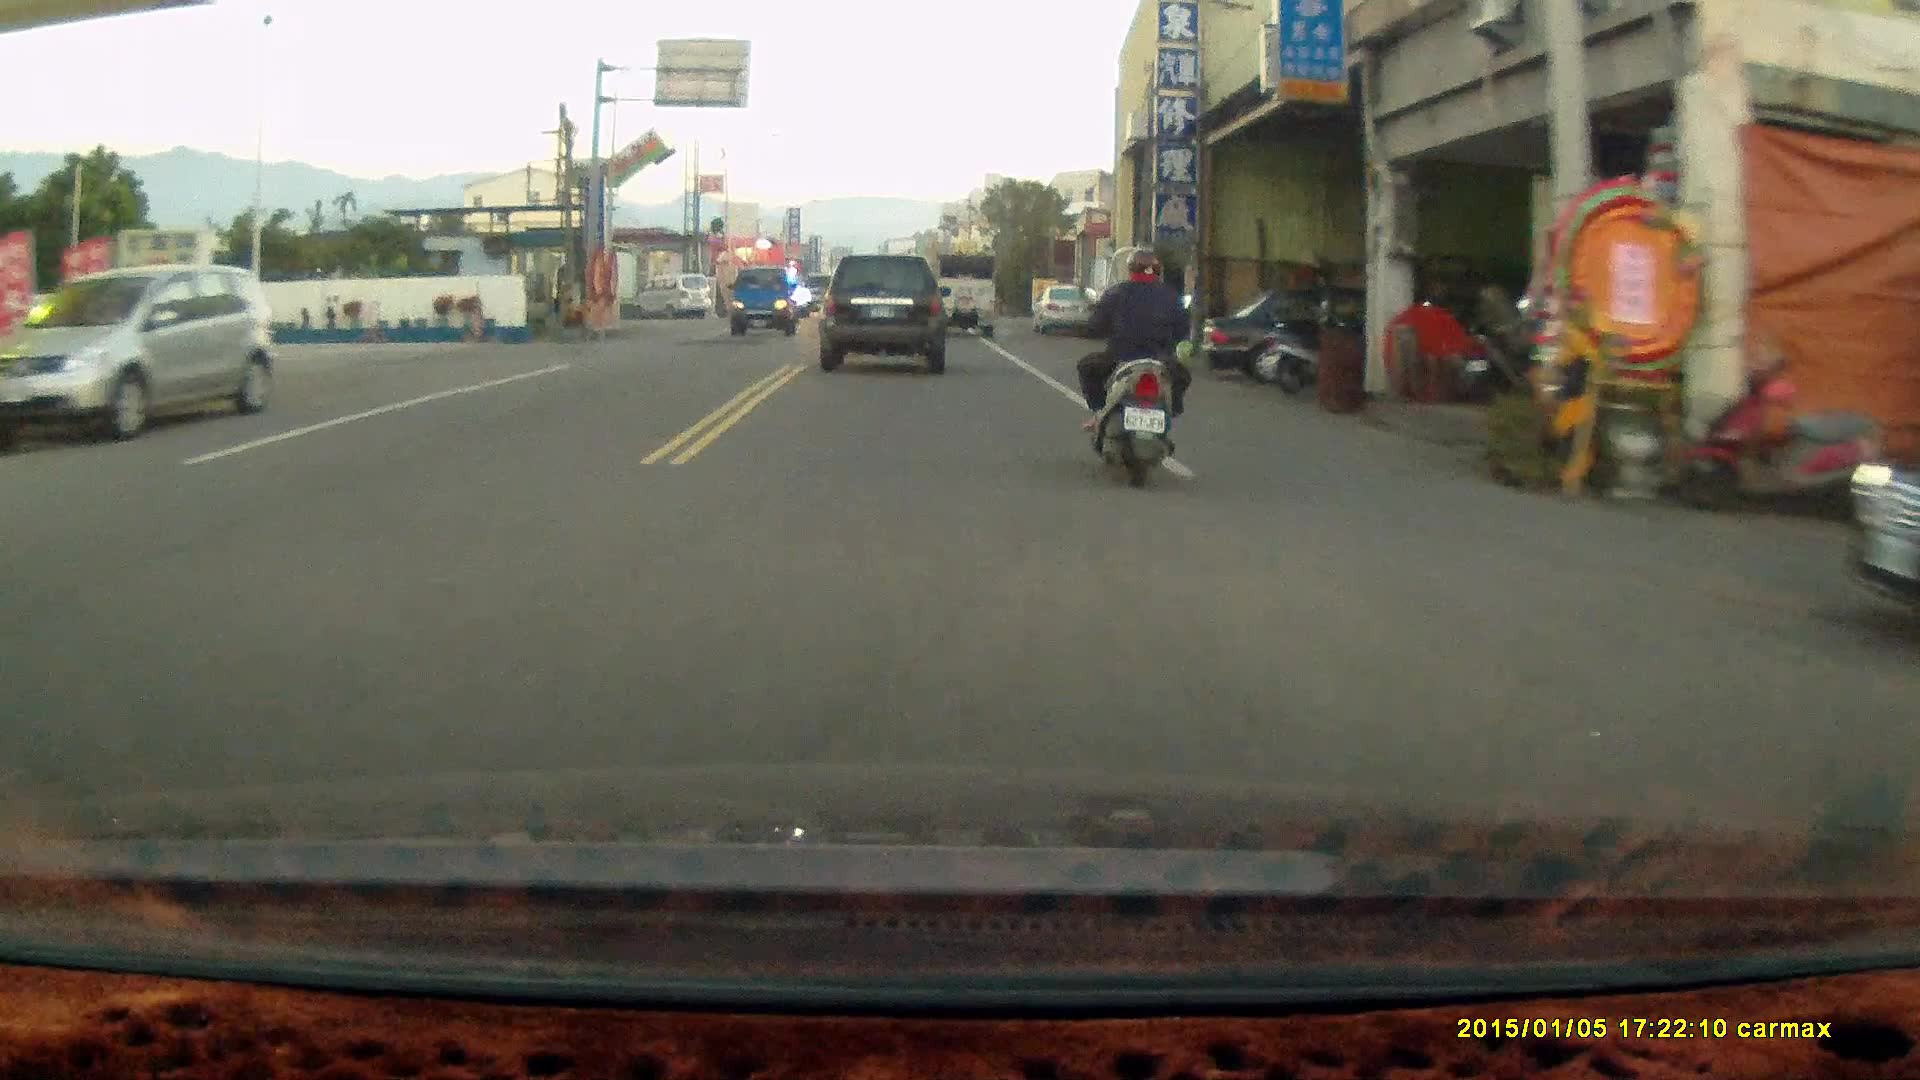rider: (1077, 243, 1192, 486)
vehicle: (5, 268, 277, 441), (1195, 287, 1443, 393), (1844, 367, 1920, 633), (818, 255, 948, 380), (928, 253, 1000, 337), (730, 269, 805, 342), (632, 273, 716, 323), (1035, 284, 1097, 336)
